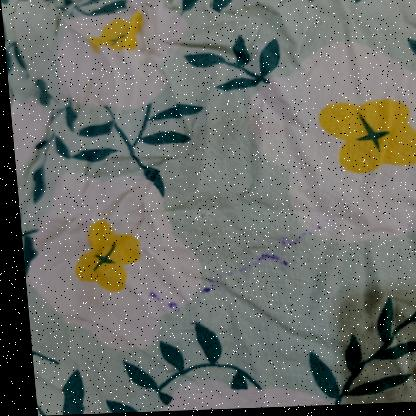spot: (188, 252, 291, 303), (268, 218, 332, 259), (137, 287, 192, 329)
